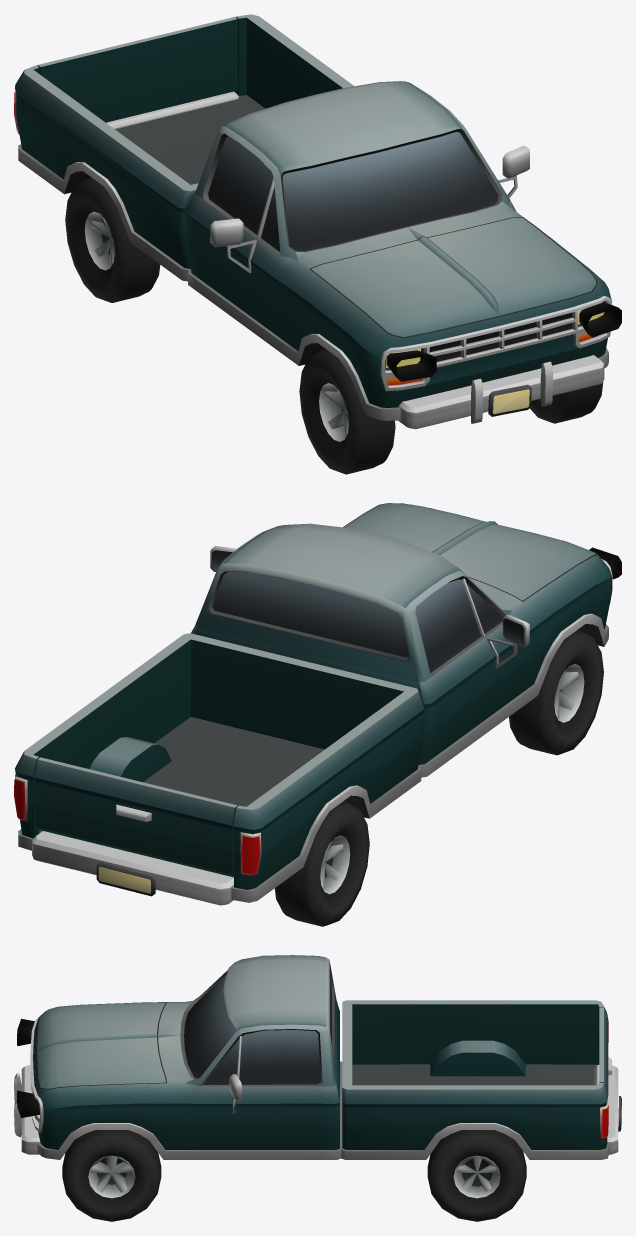
The model's file is Truck_3B.fbx.
3 renders of one model, top to bottom at view 1: azimuth 30°, elevation 25°; view 2: azimuth 150°, elevation 25°; view 3: azimuth 270°, elevation 25°, orthographic. The views are drawn at different scales.
Visible parts, largest first — view 1: Truck_3B, Truck_3B_Tailgate, Truck_3B_Wheel_F.R, Truck_3B_Wheel_R.R, Truck_3B_Rays, Truck_3B_Wheel_F.L; view 2: Truck_3B, Truck_3B_Tailgate, Truck_3B_Wheel_R.R, Truck_3B_Wheel_F.R, Truck_3B_Lights; view 3: Truck_3B, Truck_3B_Wheel_R.L, Truck_3B_Wheel_F.L, Truck_3B_Rays, Truck_3B_Tailgate.
Part boxes in pixels (x1,y1,x2,y2): Truck_3B: (14, 14, 612, 429); Truck_3B_Tailgate: (37, 17, 238, 122); Truck_3B_Wheel_F.R: (299, 349, 395, 474); Truck_3B_Wheel_R.R: (65, 178, 160, 302); Truck_3B_Rays: (386, 302, 621, 381); Truck_3B_Wheel_F.L: (529, 382, 603, 423); Truck_3B: (15, 503, 612, 905); Truck_3B_Tailgate: (34, 757, 237, 877); Truck_3B_Wheel_R.R: (274, 801, 369, 926); Truck_3B_Wheel_F.R: (509, 630, 603, 755); Truck_3B_Lights: (14, 779, 259, 874); Truck_3B: (14, 955, 621, 1159); Truck_3B_Wheel_R.L: (427, 1130, 526, 1221); Truck_3B_Wheel_F.L: (62, 1130, 161, 1221); Truck_3B_Rays: (17, 1018, 39, 1117); Truck_3B_Tailgate: (599, 1007, 611, 1094).
Size of the model in its own units: 312 by 234 by 662.
